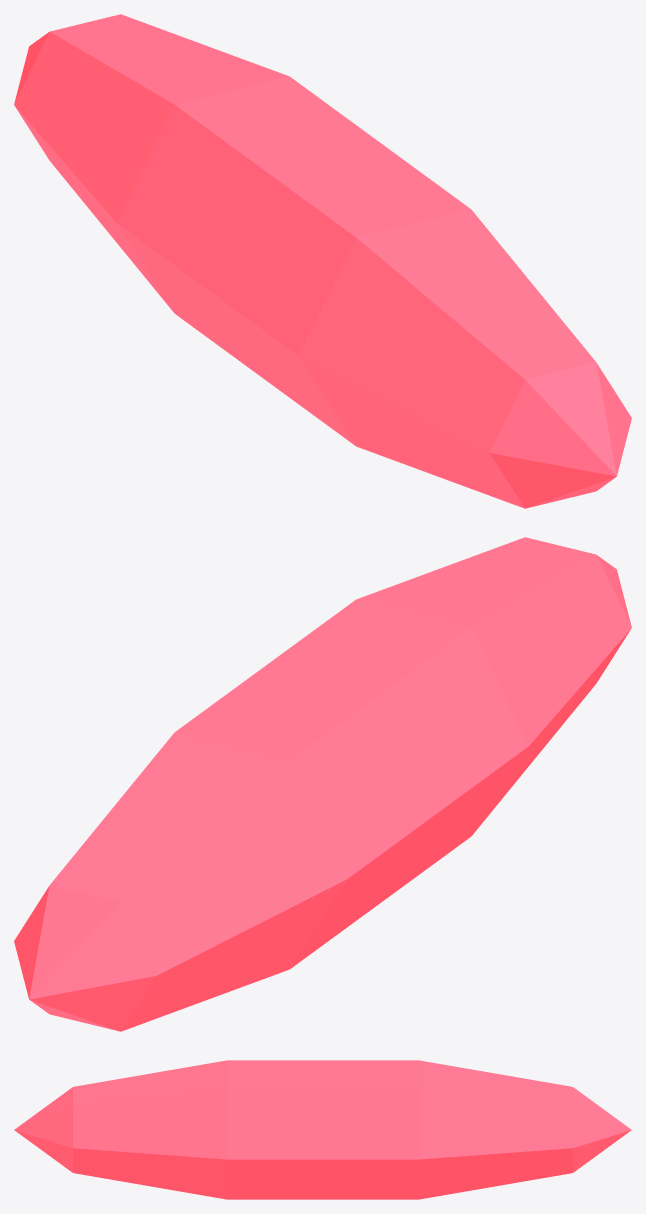
Rendered from laserbullet.glb.
3 views of the same model, one above another, from view 1: azimuth 30°, elevation 25°; view 2: azimuth 150°, elevation 25°; view 3: azimuth 270°, elevation 25° (orthographic). The views are drawn at different scales.
Visible parts, largest first — view 1: Sphere; view 2: Sphere; view 3: Sphere.
Part boxes in pixels (x1,y1,x2,y2): Sphere: (14,14,631,508); Sphere: (14,537,631,1031); Sphere: (14,1060,631,1199).
Bounding box in the file's own units: 0.0942 × 0.0815 × 0.4158.
